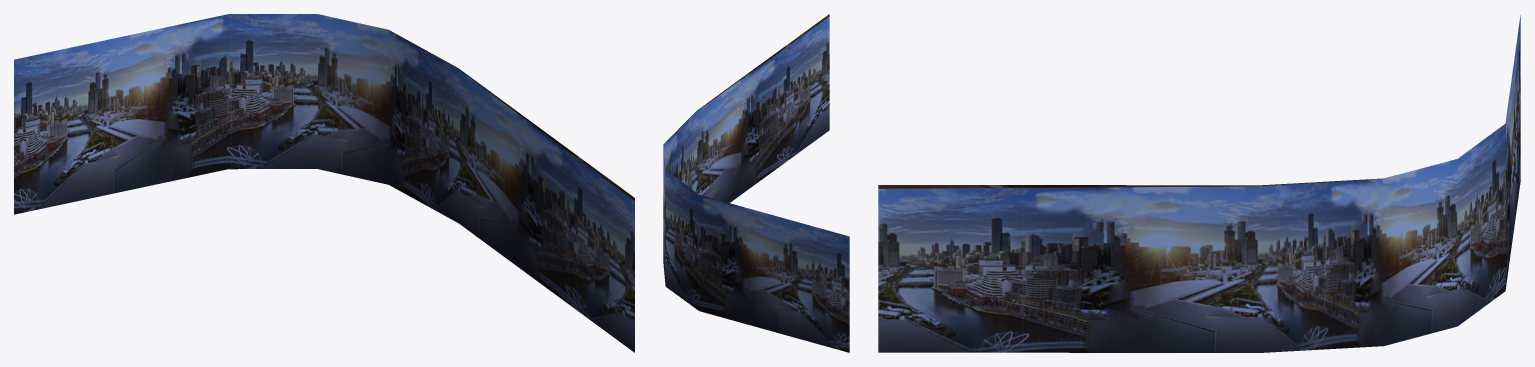
The model's file is NvMingXingJia_03_tiankongheyewan.FBX.
The picture shows the model from 3 angles, left to right: view 1: azimuth 30°, elevation 25°; view 2: azimuth 150°, elevation 25°; view 3: azimuth 270°, elevation 25°; orthographic projection. The views are drawn at different scales.
Parts seen in each view (by area): view 1: Plane014; view 2: Plane014; view 3: Plane014.
Boxes of the visible parts, x1,y1,x2,y2 form: Plane014: (14, 14, 634, 352); Plane014: (663, 14, 849, 352); Plane014: (878, 15, 1520, 352).
Bounding box in the file's own units: 10235 × 4673 × 16219.
Materials: 1 (1 with a texture image).
